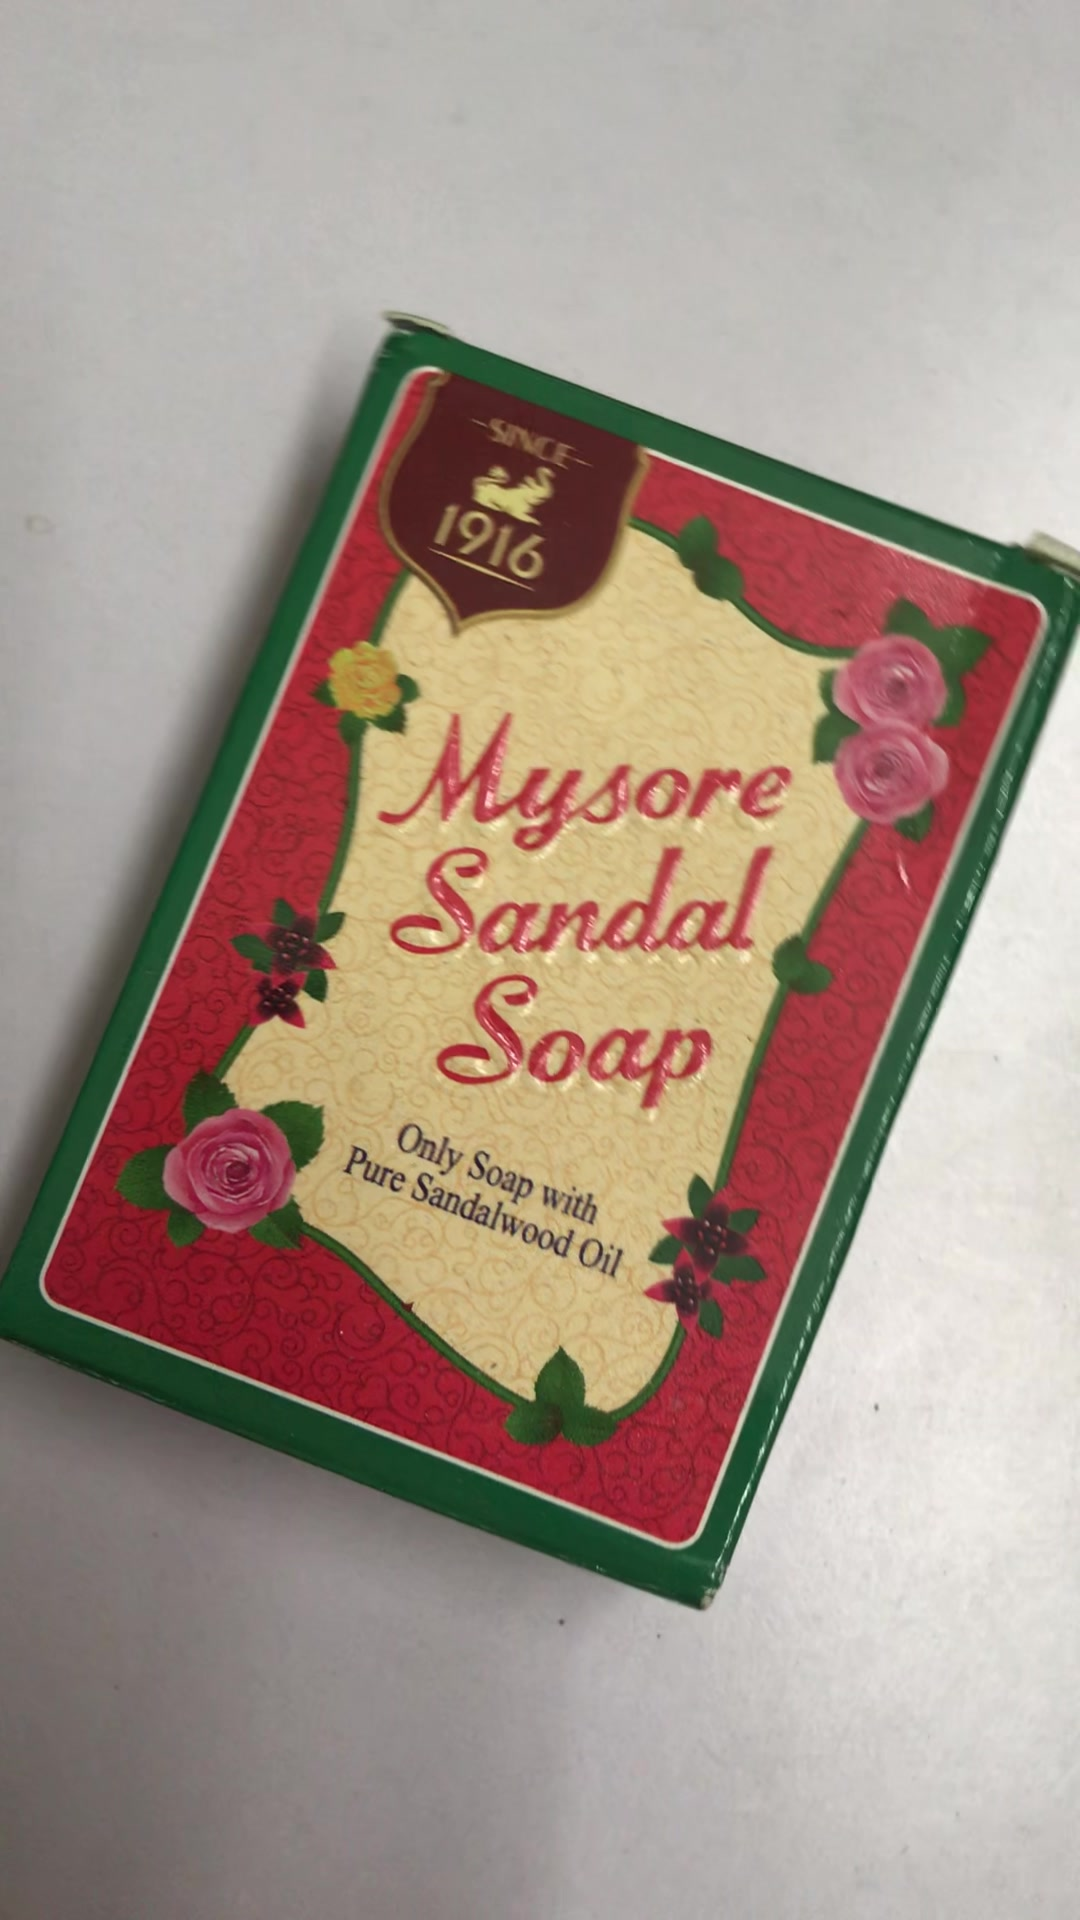mysore sandal soap: (13, 315, 1080, 1609)
